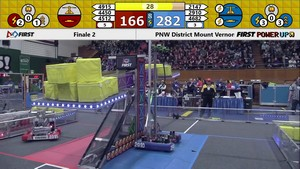cube: (75, 59, 103, 81), (76, 82, 104, 103), (46, 63, 78, 81), (54, 80, 79, 103), (100, 76, 119, 96), (279, 124, 294, 142), (45, 83, 58, 101), (155, 64, 172, 77)
